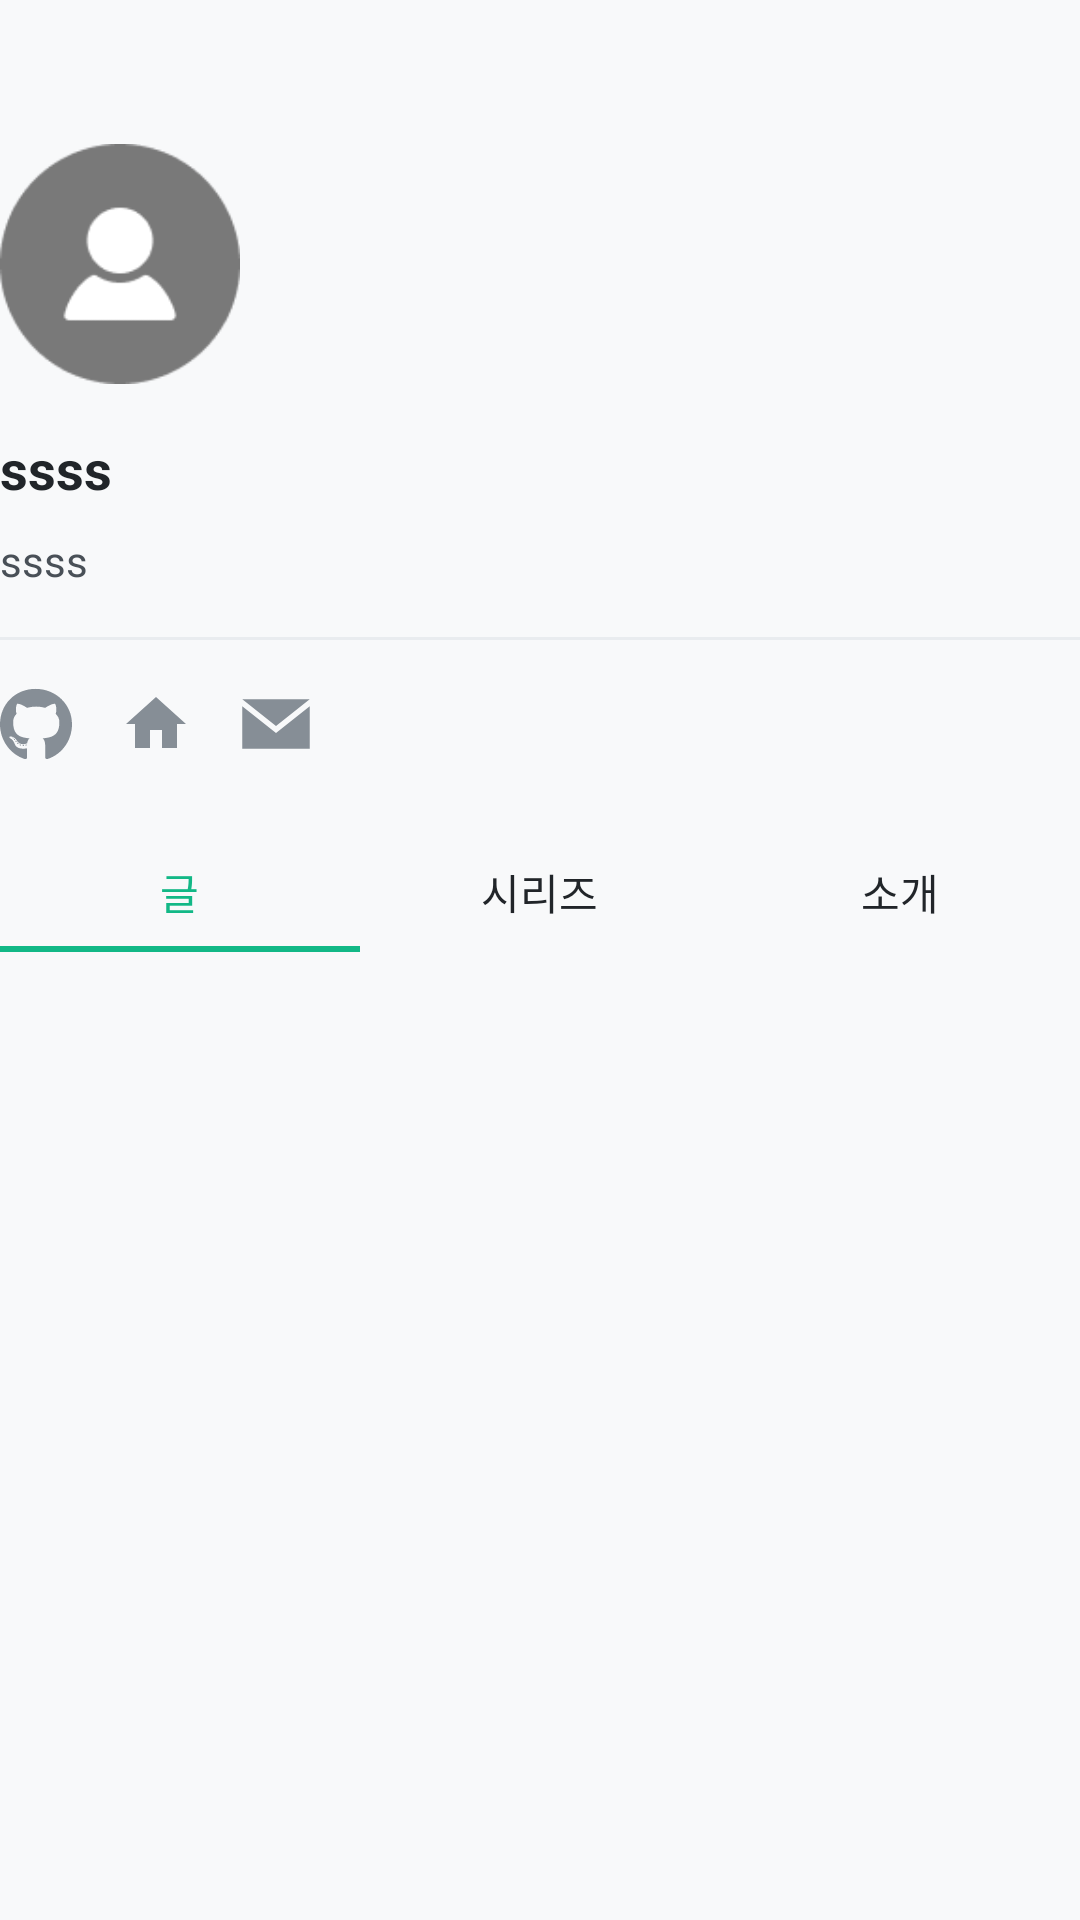

Where to tap for icons on this 1080w x 1920h app screen, as (x,y):
basic profile: (120,264)
post email: (276,724)
post home: (156,722)
